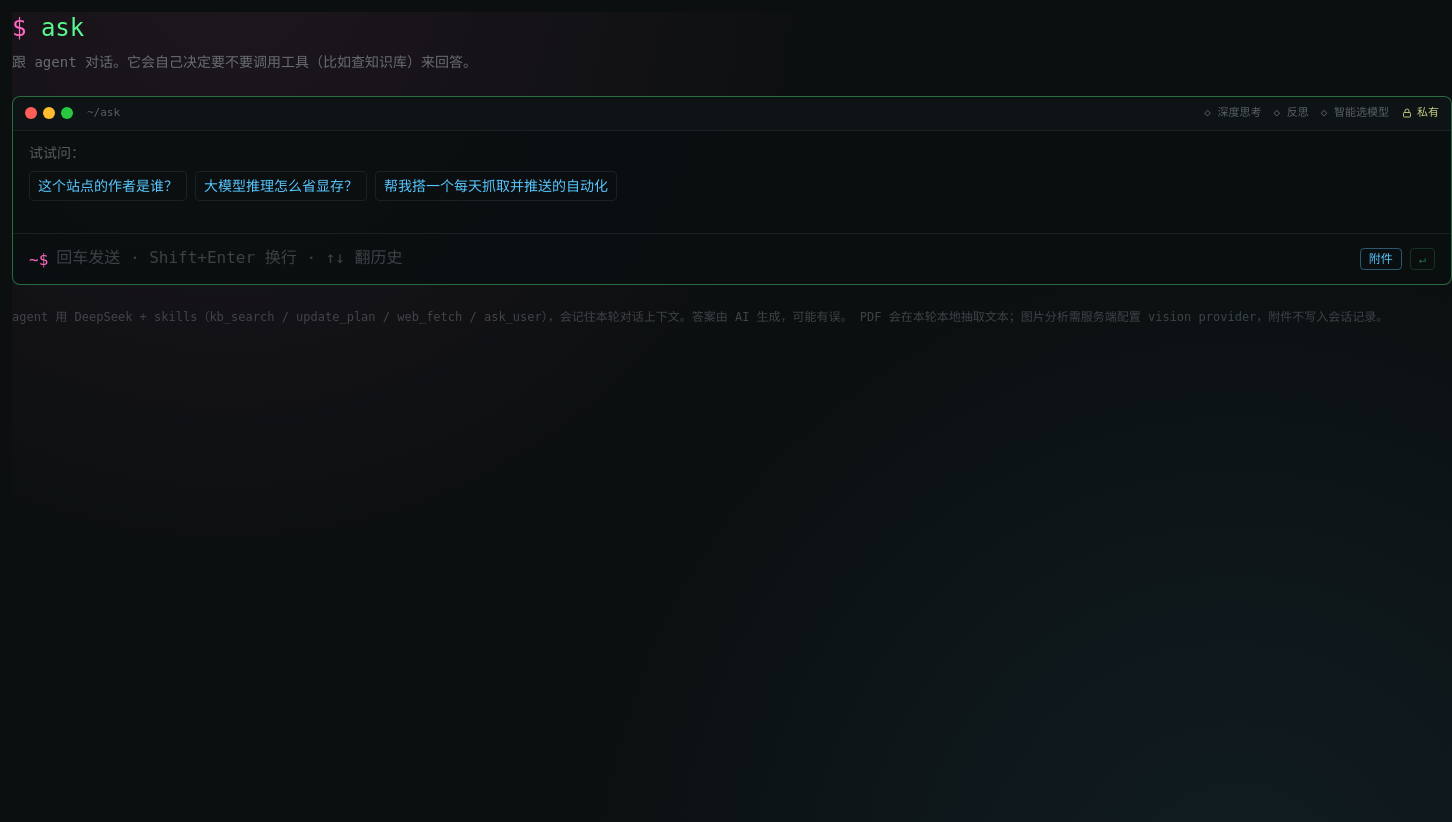
Test: Ask approval flow › approval 事件渲染审批卡；批准后 resume 请求带 { approvals, session_id }
In the text box with placeholder "回车发送 · Shift+Enter 换行 · ↑↓ 翻历史": (704, 258) [56,246,1352,270], type "删掉 x"
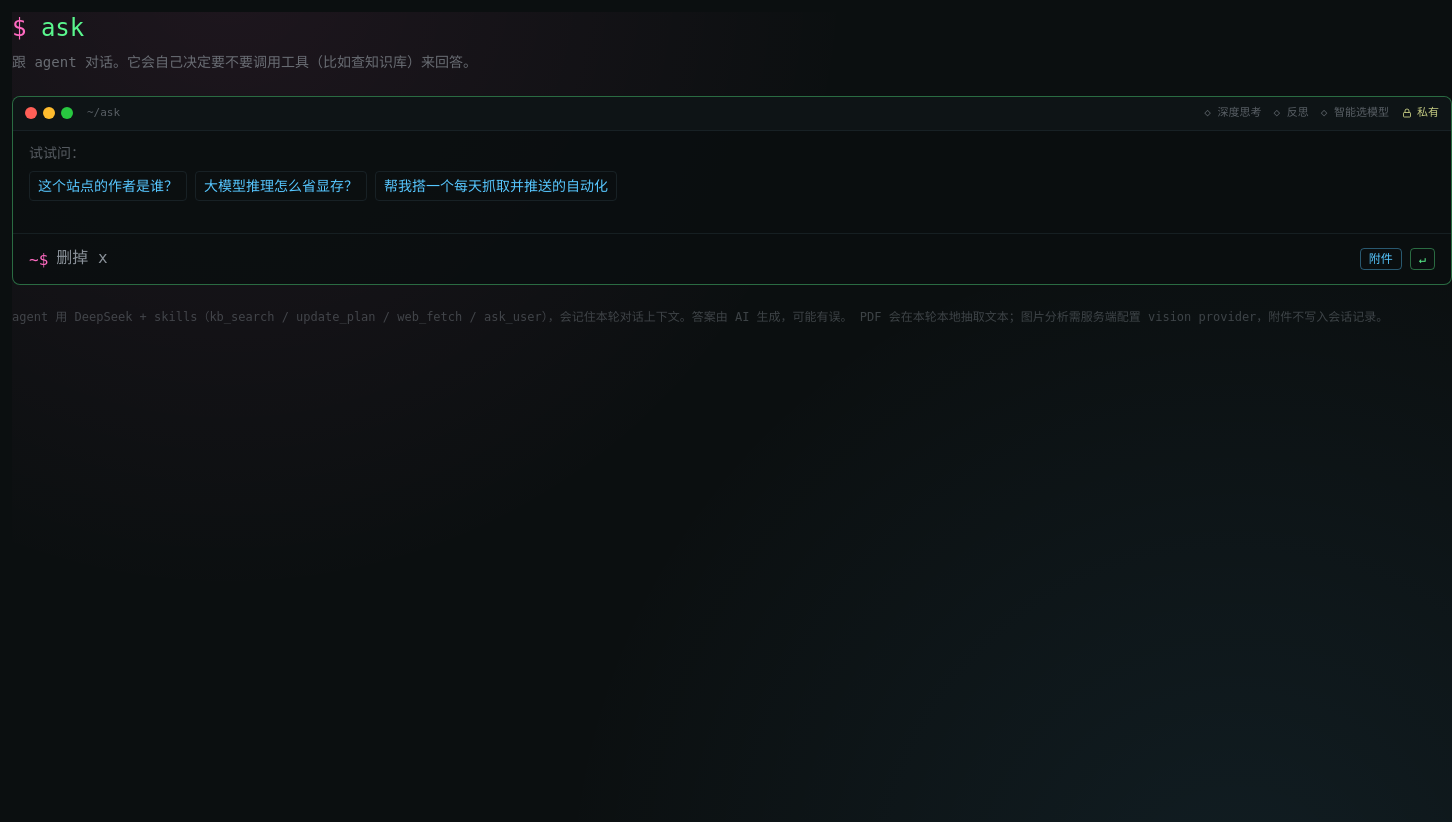
Submit the form, box [13,232,1451,284]
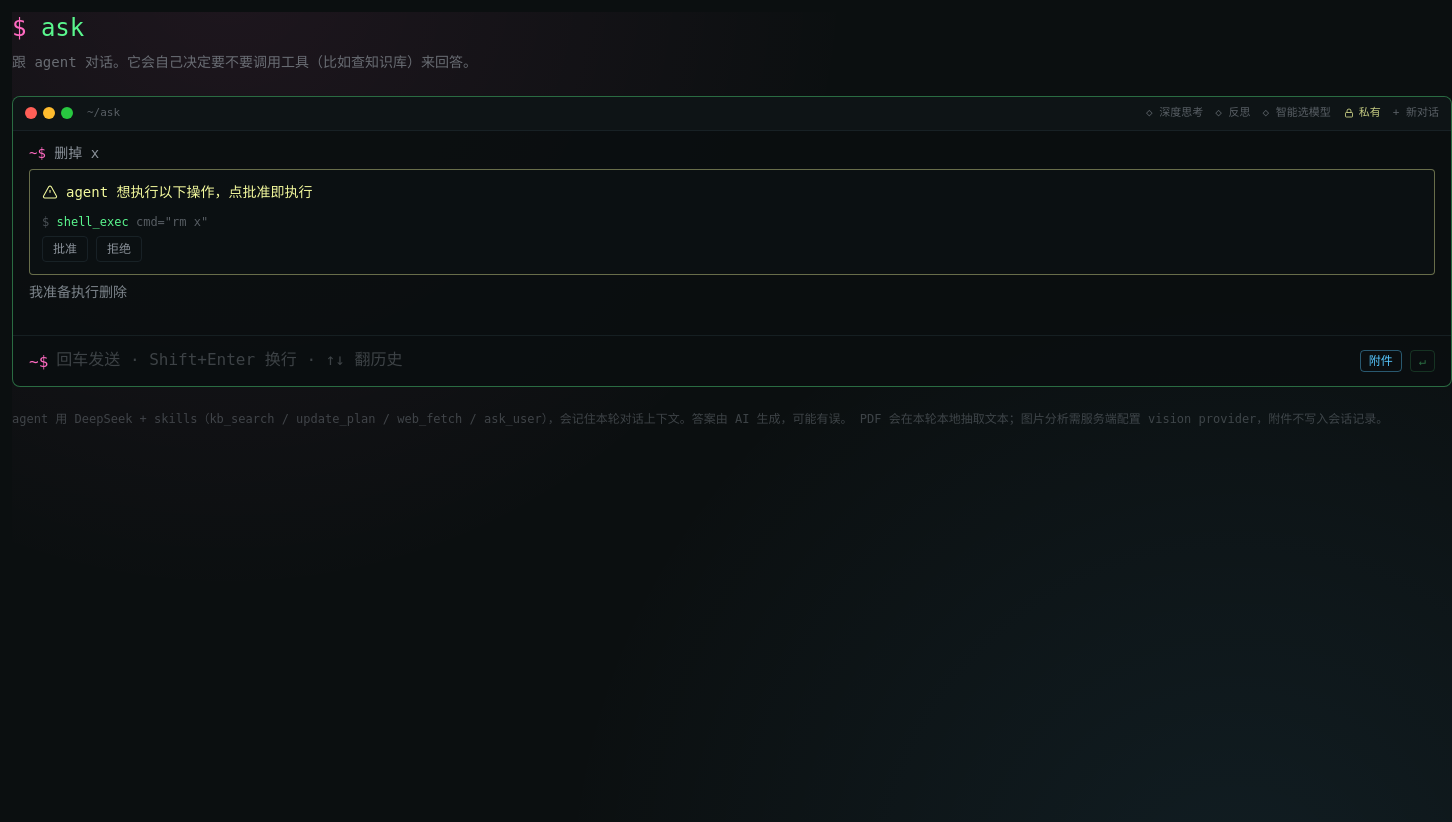
Expected: the text "shell_exec" is shown, [56,214,129,228]
Expected: the text "我准备执行删除" is shown, [29,284,127,300]
# 一键批准（点批准即执行，无二次确认）
Click the button "批准": (65, 248) [42,236,88,262]
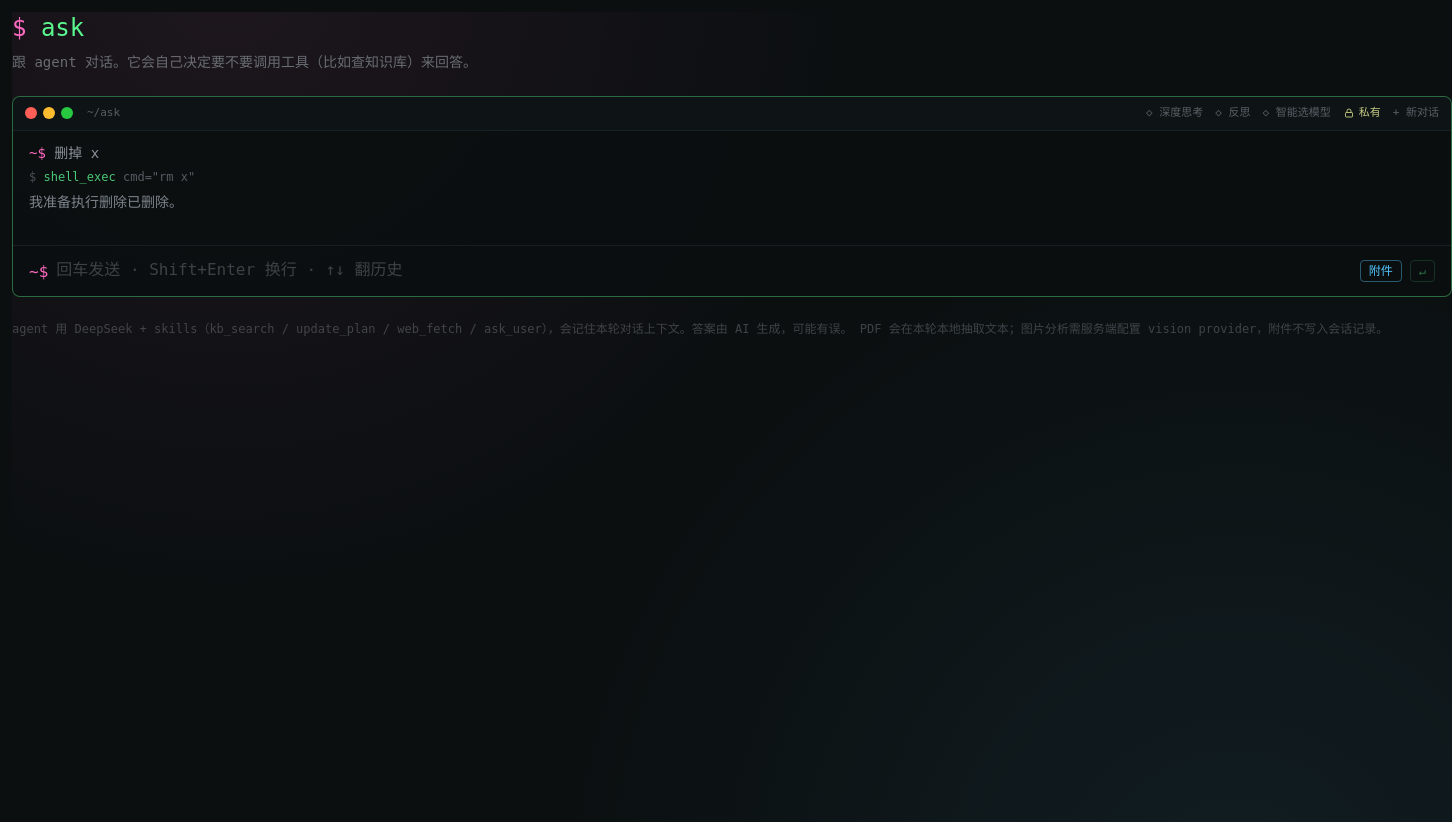
Expected: the text "已删除。" is shown, [29,194,183,210]
Expected: the text "批准" is gone
